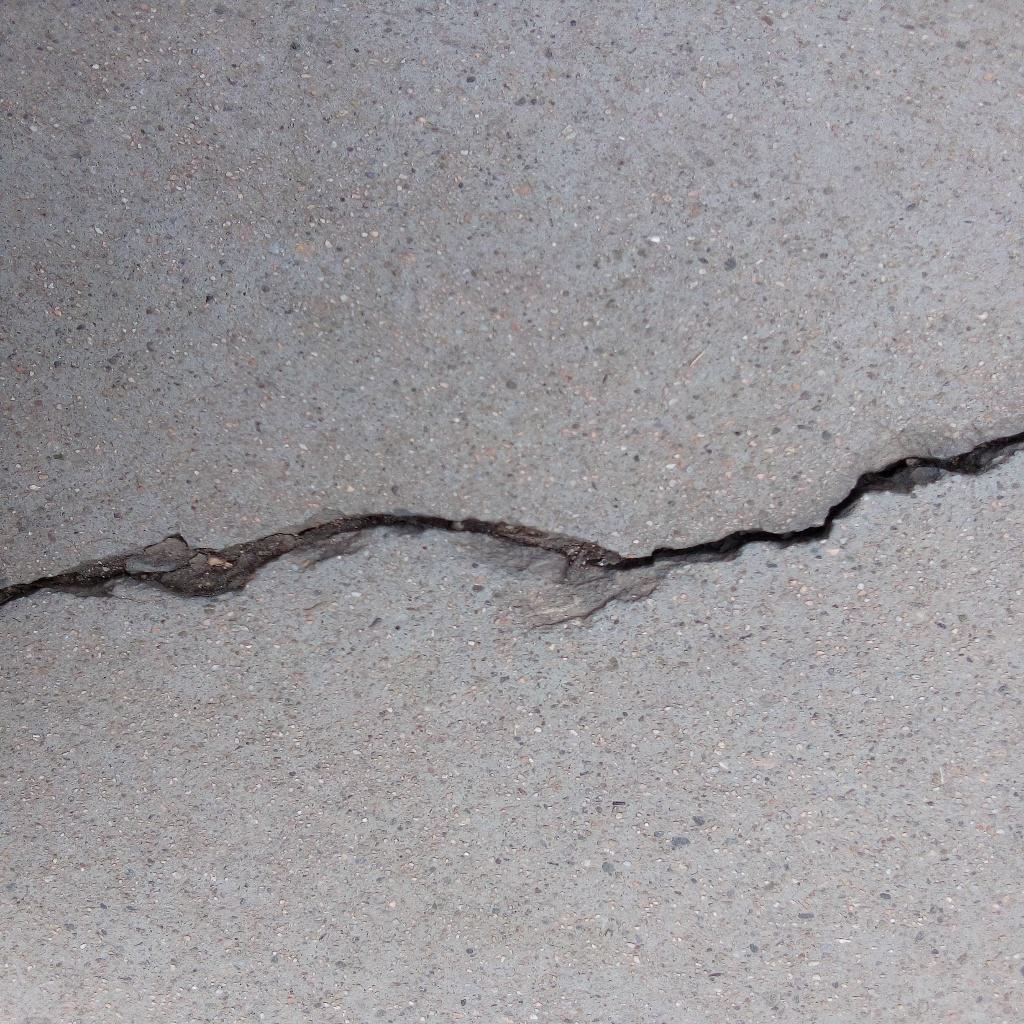Crack: (1, 431, 1024, 610)
